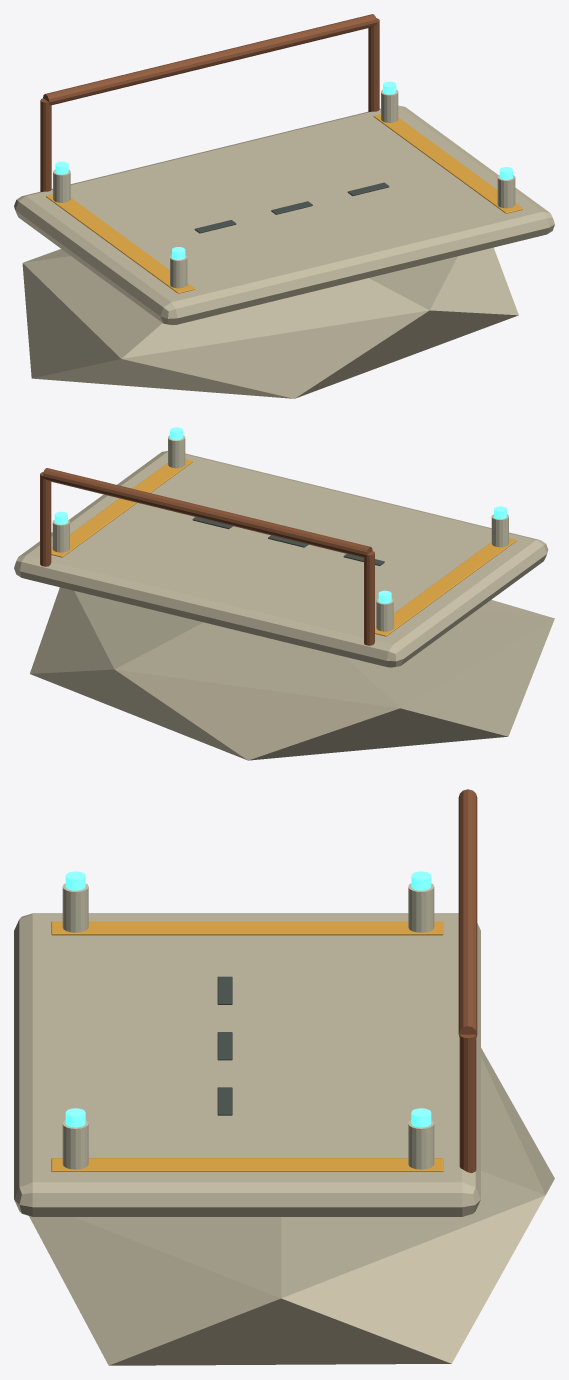
The model's file is Peak_Landing_Platform.glb.
3 renders of one model, top to bottom at view 1: azimuth 30°, elevation 25°; view 2: azimuth 150°, elevation 25°; view 3: azimuth 270°, elevation 25°, orthographic. The views are drawn at different scales.
Visible parts, largest first — view 1: Landing slab, Ledge rock, Back handrail, Safety stripe.001, Safety stripe, Back rail post, Back rail post.001, Landing marker.002, Landing marker.001, Landing marker.003, Landing marker; view 2: Landing slab, Ledge rock, Back handrail, Safety stripe, Safety stripe.001, Back rail post.001, Back rail post, Landing marker.001, Landing marker.003, Landing marker, Landing marker.002; view 3: Landing slab, Ledge rock, Safety stripe, Safety stripe.001, Back handrail, Back rail post.001, Landing marker, Landing marker.001, Landing marker.002, Landing marker.003.
Boxes of the visible parts, left/top/right/bottom form: Landing slab: left=14, top=105, right=554, bottom=325; Ledge rock: left=22, top=247, right=518, bottom=398; Back handrail: left=43, top=14, right=376, bottom=104; Safety stripe.001: left=373, top=114, right=522, bottom=213; Safety stripe: left=46, top=194, right=195, bottom=293; Back rail post: left=40, top=98, right=51, bottom=191; Back rail post.001: left=368, top=18, right=379, bottom=111; Landing marker.002: left=497, top=175, right=515, bottom=208; Landing marker.001: left=53, top=169, right=70, bottom=202; Landing marker.003: left=381, top=89, right=398, bottom=122; Landing marker: left=170, top=255, right=187, bottom=288; Landing slab: left=14, top=451, right=548, bottom=667; Ledge rock: left=30, top=587, right=554, bottom=760; Back handrail: left=42, top=468, right=372, bottom=557; Safety stripe: left=375, top=538, right=516, bottom=636; Safety stripe.001: left=51, top=459, right=192, bottom=557; Back rail post.001: left=40, top=472, right=51, bottom=566; Back rail post: left=364, top=551, right=374, bottom=645; Landing marker.001: left=376, top=598, right=393, bottom=631; Landing marker.003: left=52, top=520, right=69, bottom=552; Landing marker: left=491, top=514, right=508, bottom=547; Landing marker.002: left=168, top=435, right=185, bottom=468; Landing slab: left=14, top=913, right=480, bottom=1216; Ledge rock: left=29, top=1048, right=554, bottom=1365; Safety stripe: left=51, top=921, right=443, bottom=935; Safety stripe.001: left=51, top=1158, right=443, bottom=1171; Back handrail: left=458, top=789, right=477, bottom=1036; Back rail post.001: left=459, top=1034, right=476, bottom=1172; Landing marker: left=62, top=883, right=88, bottom=932; Landing marker.001: left=408, top=883, right=434, bottom=932; Landing marker.002: left=62, top=1120, right=88, bottom=1169; Landing marker.003: left=408, top=1120, right=434, bottom=1169.
Bounding box in the file's own units: 4.11 × 2.25 × 2.9.
